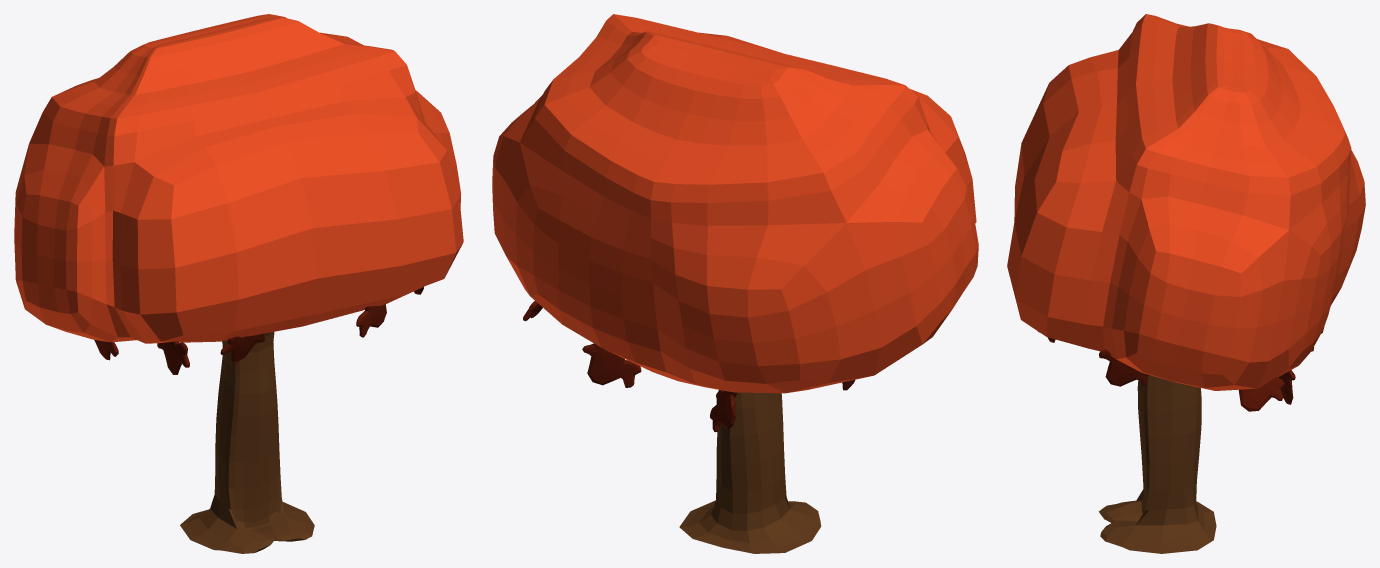
The model's file is mapletree.fbx.
3 renders of one model, left to right at view 1: azimuth 30°, elevation 25°; view 2: azimuth 150°, elevation 25°; view 3: azimuth 270°, elevation 25°, orthographic. The views are drawn at different scales.
Parts seen in each view (by area): view 1: Cube; view 2: Cube; view 3: Cube.
Boxes of the visible parts, bbox=[...] form: Cube: bbox=[14, 14, 463, 553]; Cube: bbox=[492, 14, 978, 553]; Cube: bbox=[1007, 14, 1365, 553].
Bounding box in the file's own units: 2304 × 2502 × 1732.
